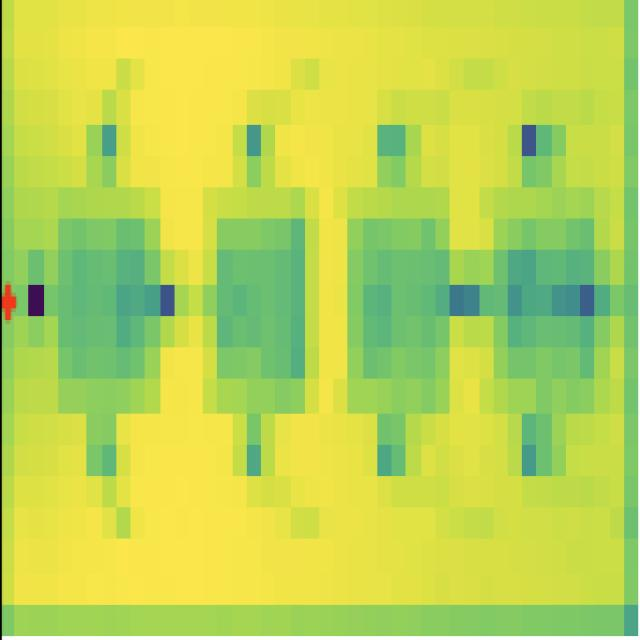Concrete: (475, 148, 613, 431)
Glass: (343, 160, 460, 432)
Metal: (45, 166, 171, 434)
Wood: (199, 168, 336, 425)
